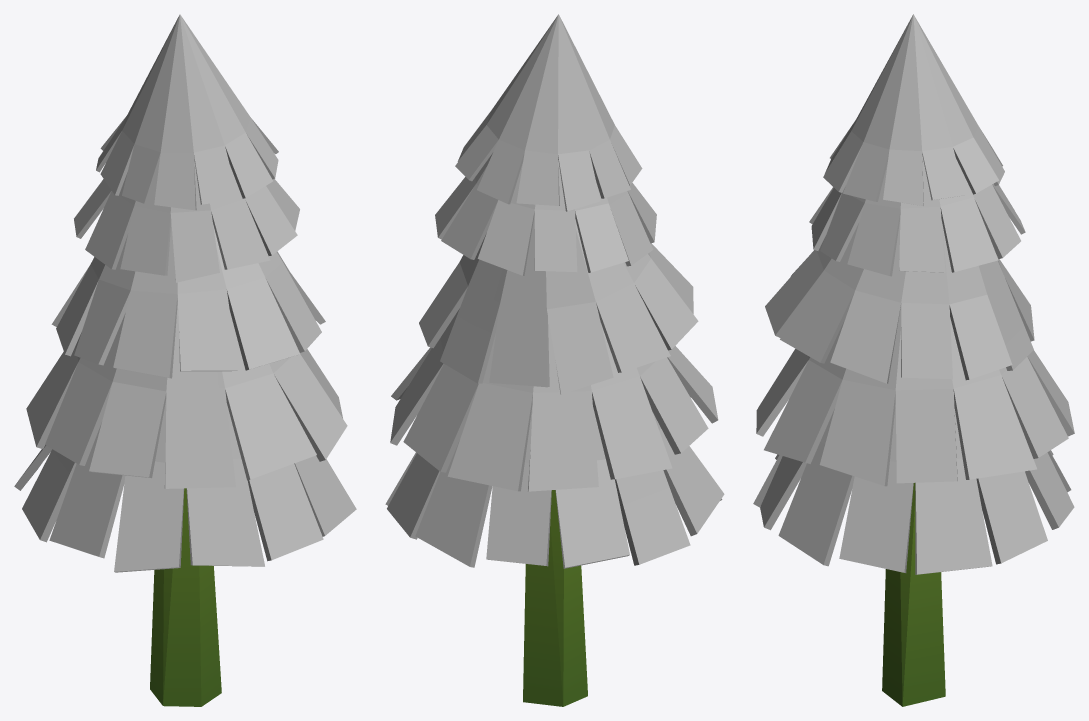
The model's file is Tree_19.fbx.
3 renders of one model, left to right at view 1: azimuth 30°, elevation 25°; view 2: azimuth 150°, elevation 25°; view 3: azimuth 270°, elevation 25°, orthographic.
Visible parts, largest first — view 1: Tree_19; view 2: Tree_19; view 3: Tree_19.
Boxes of the visible parts, left/top/right/bottom form: Tree_19: left=14, top=14, right=356, bottom=706; Tree_19: left=385, top=14, right=724, bottom=706; Tree_19: left=753, top=14, right=1074, bottom=706.
Bounding box in the file's own units: 3.6 × 8.21 × 3.55.
